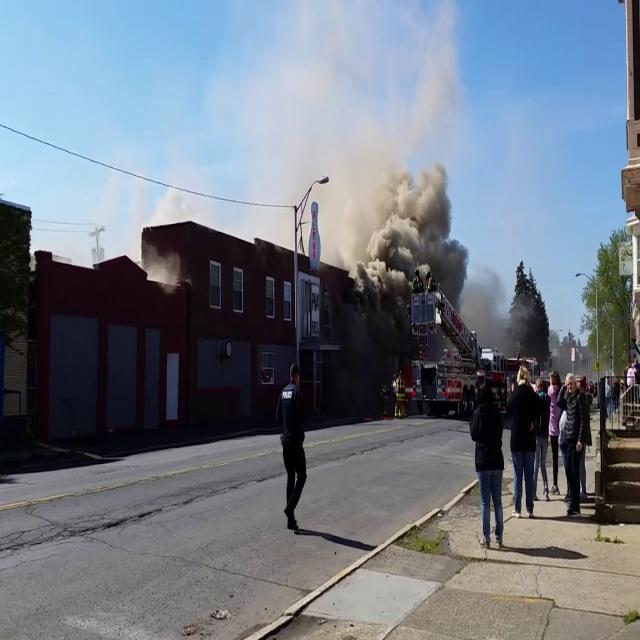Smoke: (314, 94, 474, 312)
